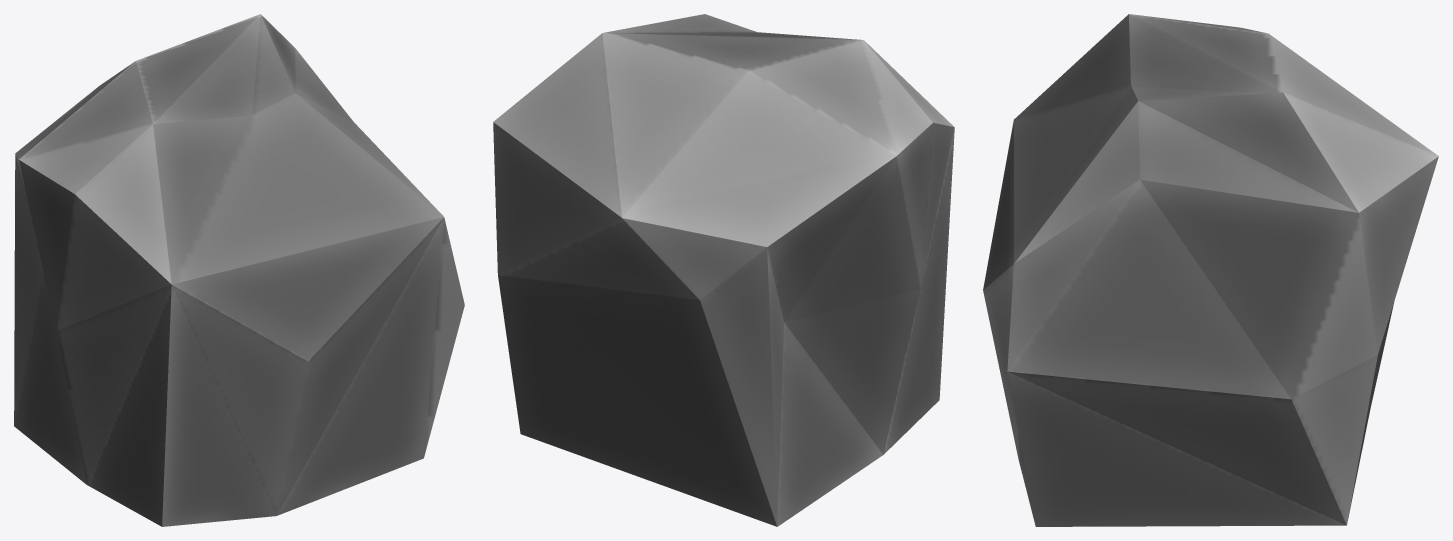
The model's file is Solid_Rock_2.fbx.
The picture shows the model from 3 angles, left to right: view 1: azimuth 30°, elevation 25°; view 2: azimuth 150°, elevation 25°; view 3: azimuth 270°, elevation 25°; orthographic projection. The views are drawn at different scales.
Parts seen in each view (by area): view 1: Solid_Rock_2; view 2: Solid_Rock_2; view 3: Solid_Rock_2.
Boxes of the visible parts, x1,y1,x2,y2 form: Solid_Rock_2: [14, 14, 464, 526]; Solid_Rock_2: [493, 14, 954, 526]; Solid_Rock_2: [983, 14, 1438, 526].
Size of the model in its own units: 139 by 146 by 141.
1 material, 1 textured.
